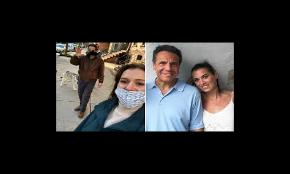mask_weared_incorrect: (116, 77, 145, 108)
with_mask: (87, 47, 97, 57)
without_mask: (157, 56, 179, 81), (195, 72, 215, 91)
